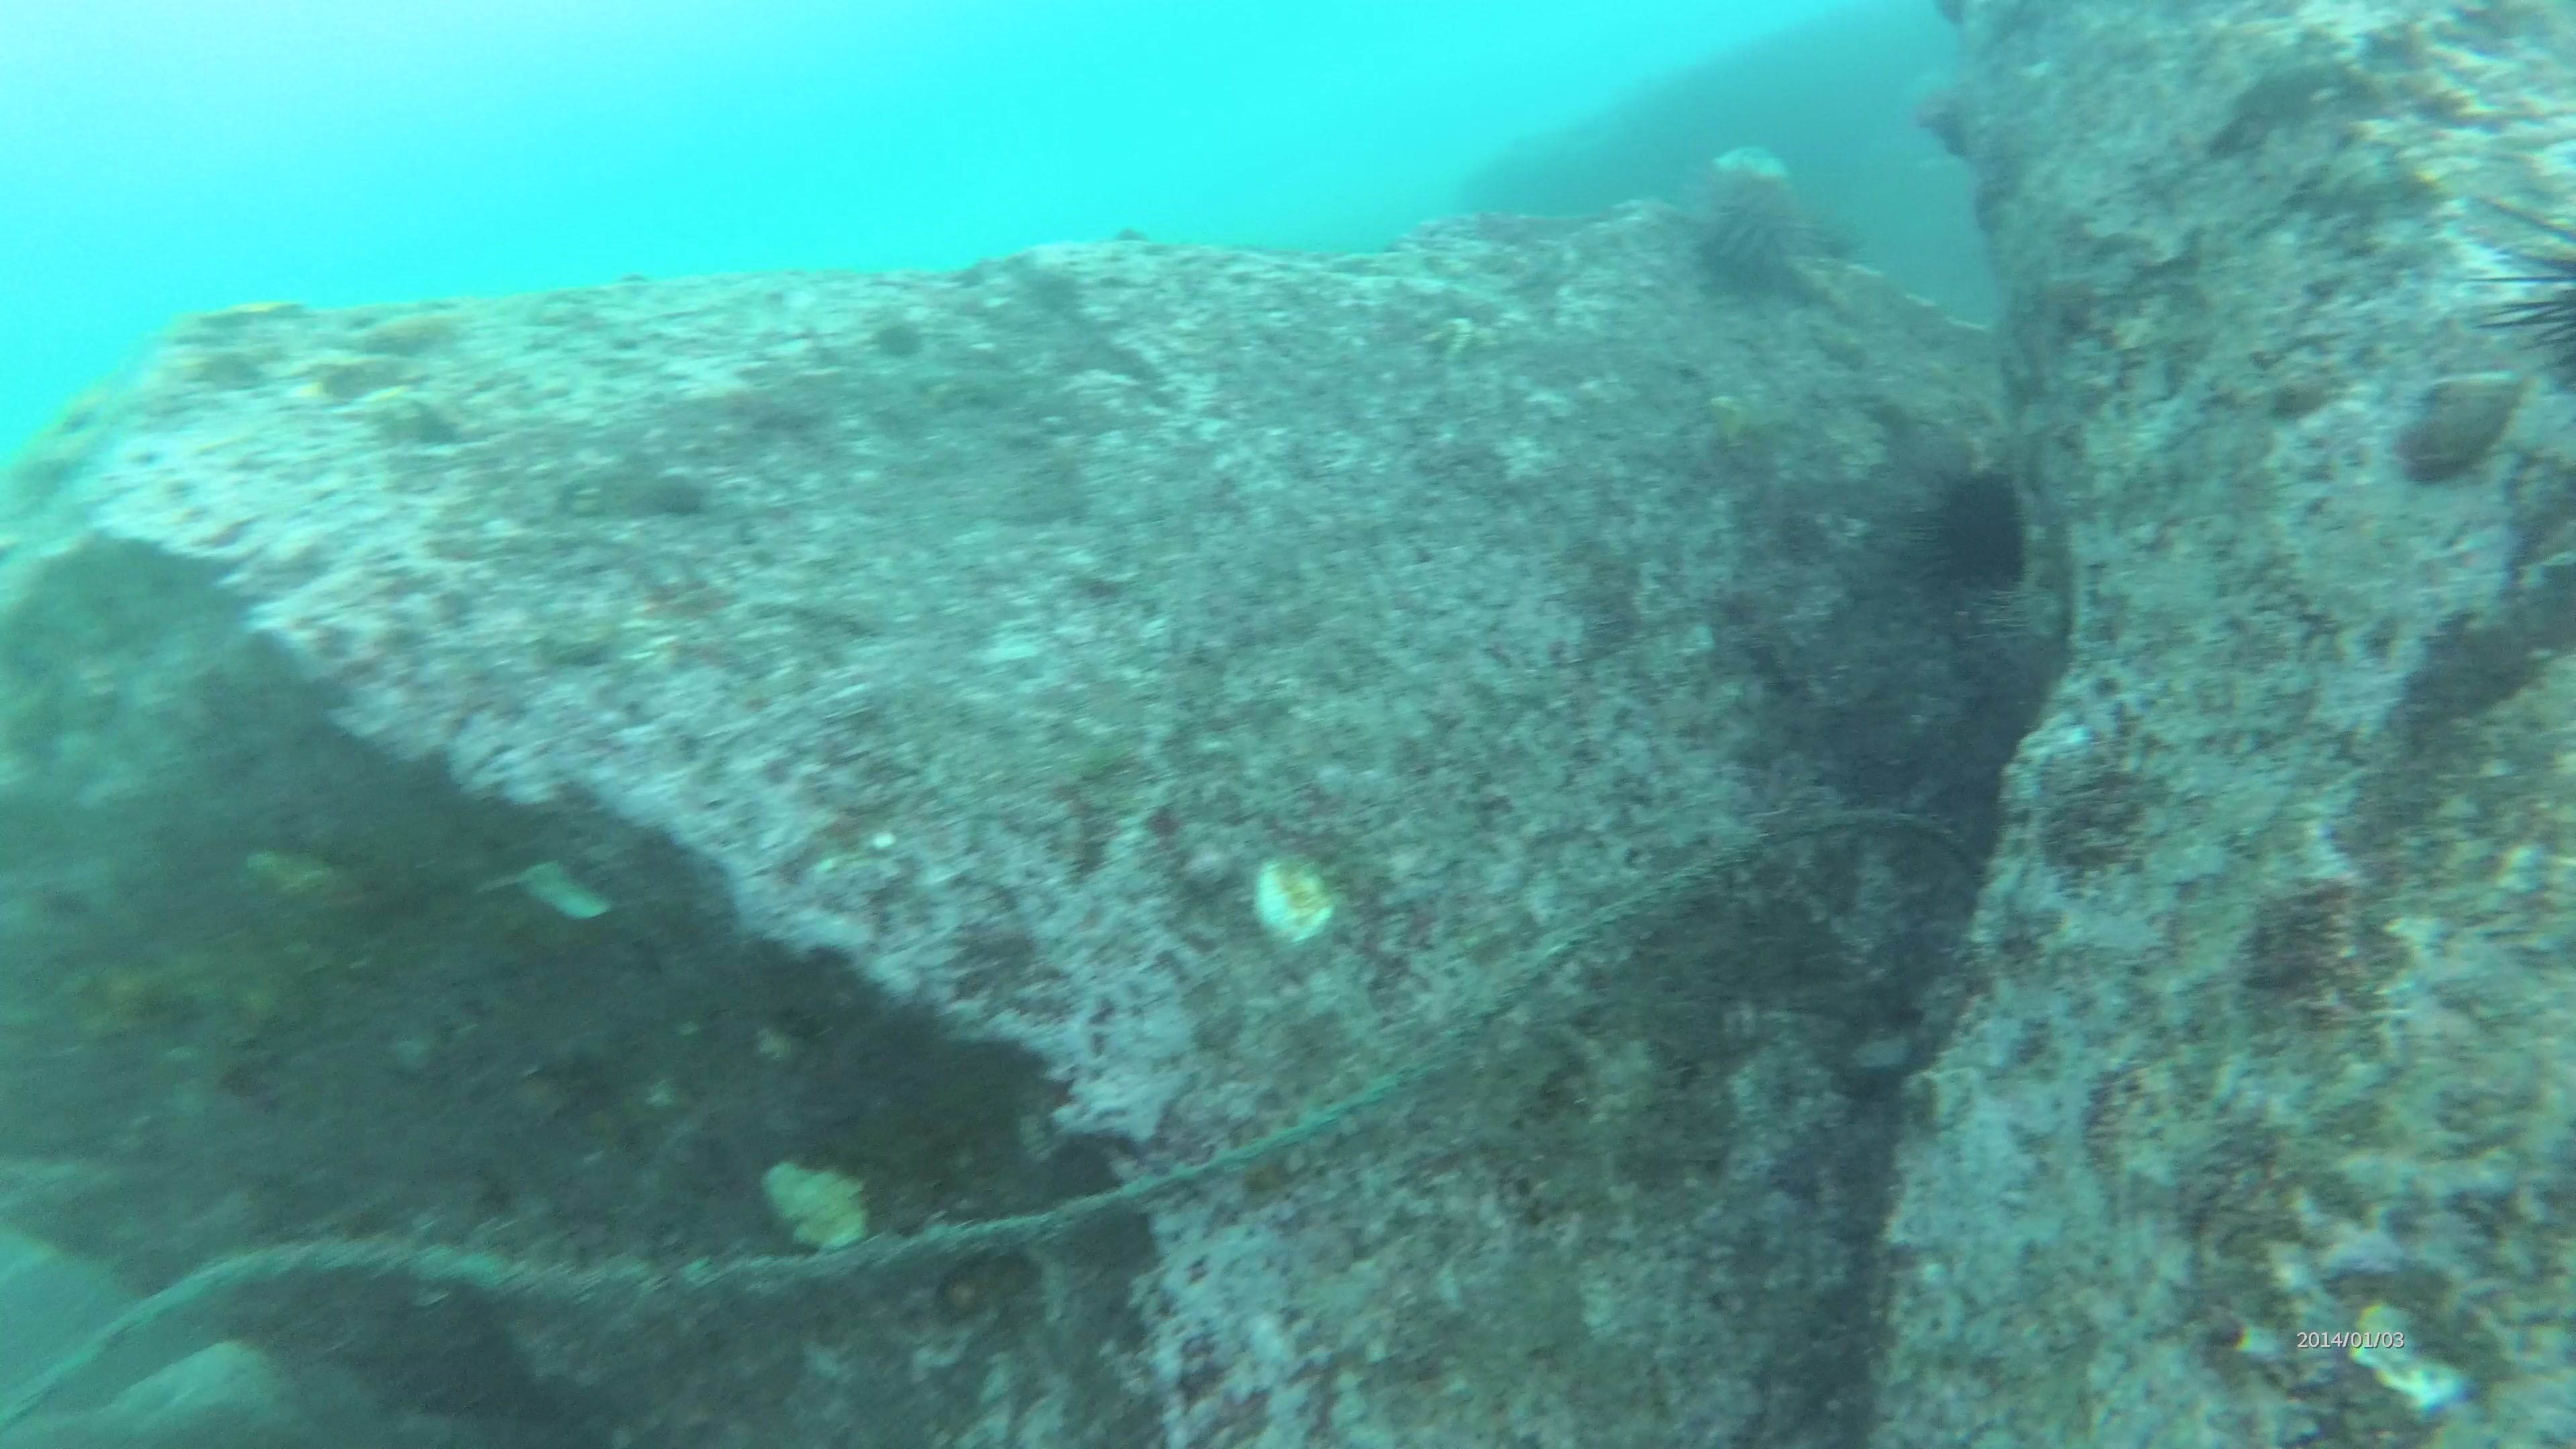echinus: (2465, 168, 2576, 400), (1679, 163, 1813, 290), (1913, 460, 2038, 594)
